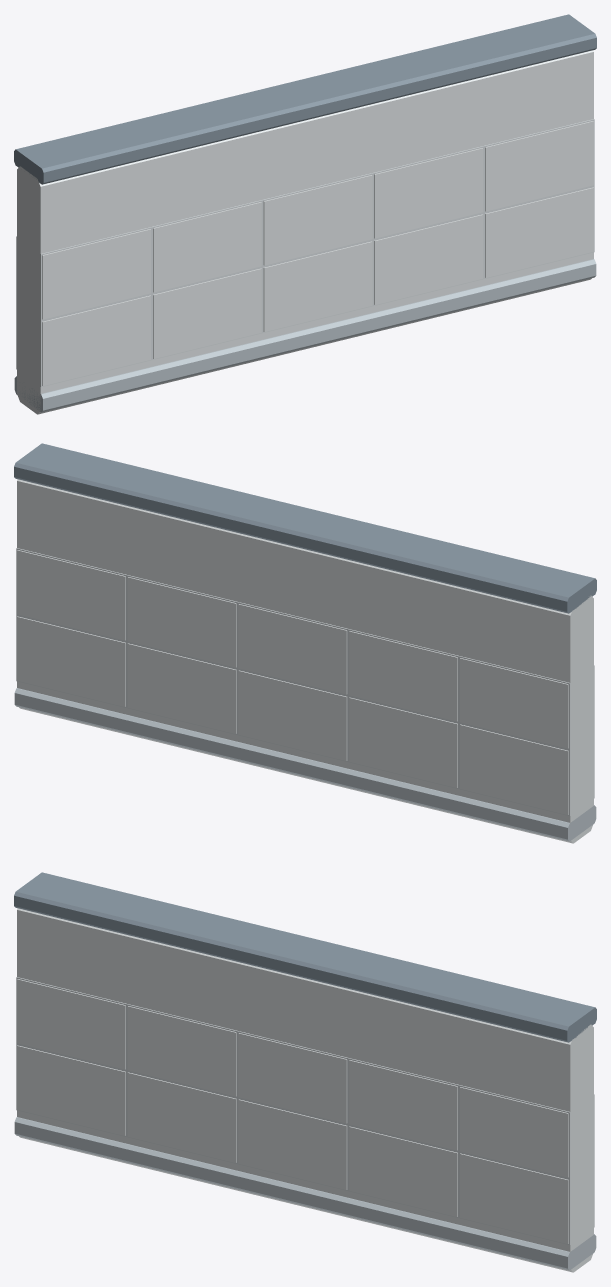
File: wall_hospital_consult.glb
3 views of the same model, one above another, from view 1: azimuth 30°, elevation 25°; view 2: azimuth 150°, elevation 25°; view 3: azimuth 330°, elevation 25° (orthographic).
Parts seen in each view (by area): view 1: Part_001, Part_002, Part_003, Part_021, Part_011, Part_013, Part_023, Part_009, Part_015, Part_019, Part_025, Part_017 (+2 smaller); view 2: Part_001, Part_002, Part_003, Part_020, Part_010, Part_012, Part_022, Part_008, Part_014, Part_018, Part_024, Part_016 (+2 smaller); view 3: Part_001, Part_002, Part_003, Part_021, Part_009, Part_011, Part_019, Part_007, Part_013, Part_017, Part_023, Part_025 (+2 smaller).
Part boxes in pixels (x1,y1,x2,y2): Part_001: [17, 50, 593, 414]; Part_002: [14, 14, 596, 184]; Part_003: [14, 259, 596, 412]; Part_021: [263, 175, 372, 265]; Part_011: [263, 241, 372, 331]; Part_013: [374, 214, 483, 304]; Part_023: [374, 148, 483, 238]; Part_009: [153, 268, 261, 358]; Part_015: [485, 187, 593, 277]; Part_019: [153, 202, 261, 292]; Part_025: [485, 121, 593, 211]; Part_017: [42, 229, 150, 319]; Part_001: [17, 479, 593, 843]; Part_002: [14, 443, 596, 613]; Part_003: [14, 688, 596, 841]; Part_020: [238, 604, 347, 694]; Part_010: [238, 670, 347, 760]; Part_012: [127, 643, 236, 733]; Part_022: [127, 577, 236, 667]; Part_008: [349, 697, 457, 787]; Part_014: [17, 616, 125, 706]; Part_018: [349, 631, 457, 721]; Part_024: [17, 550, 125, 640]; Part_016: [460, 658, 568, 748]; Part_001: [17, 908, 593, 1272]; Part_002: [14, 872, 596, 1042]; Part_003: [14, 1117, 596, 1270]; Part_021: [238, 1033, 347, 1123]; Part_009: [127, 1072, 236, 1162]; Part_011: [238, 1099, 347, 1189]; Part_019: [127, 1006, 236, 1096]; Part_007: [17, 1045, 125, 1135]; Part_013: [349, 1126, 457, 1216]; Part_017: [17, 979, 125, 1069]; Part_023: [349, 1060, 457, 1150]; Part_025: [460, 1087, 568, 1177].
Bounding box in the file's own units: 2.7 × 1.16 × 0.25.
